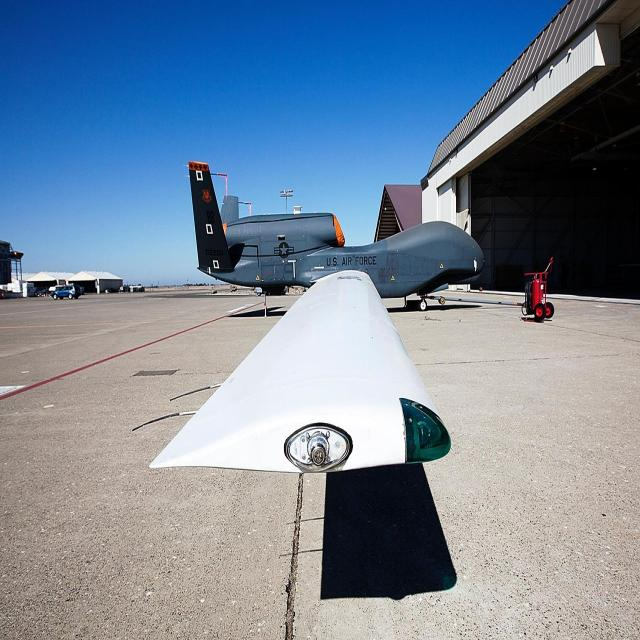MIL_Plane: (132, 160, 484, 473)
